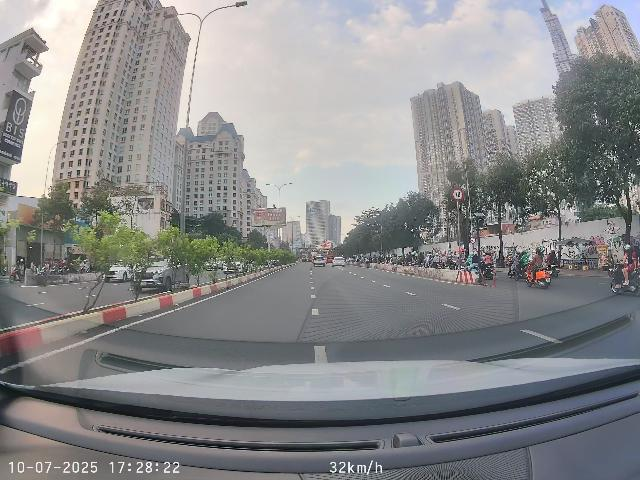127-toc-do-toi-da-60: (470, 237, 476, 244)
127-toc-do-toi-da-70: (452, 188, 464, 201)
